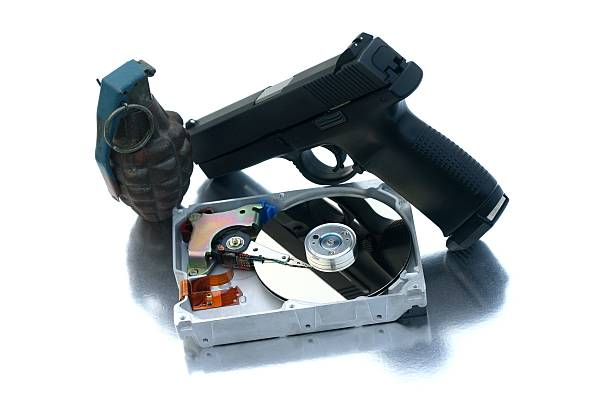e1: (91, 58, 190, 227)
